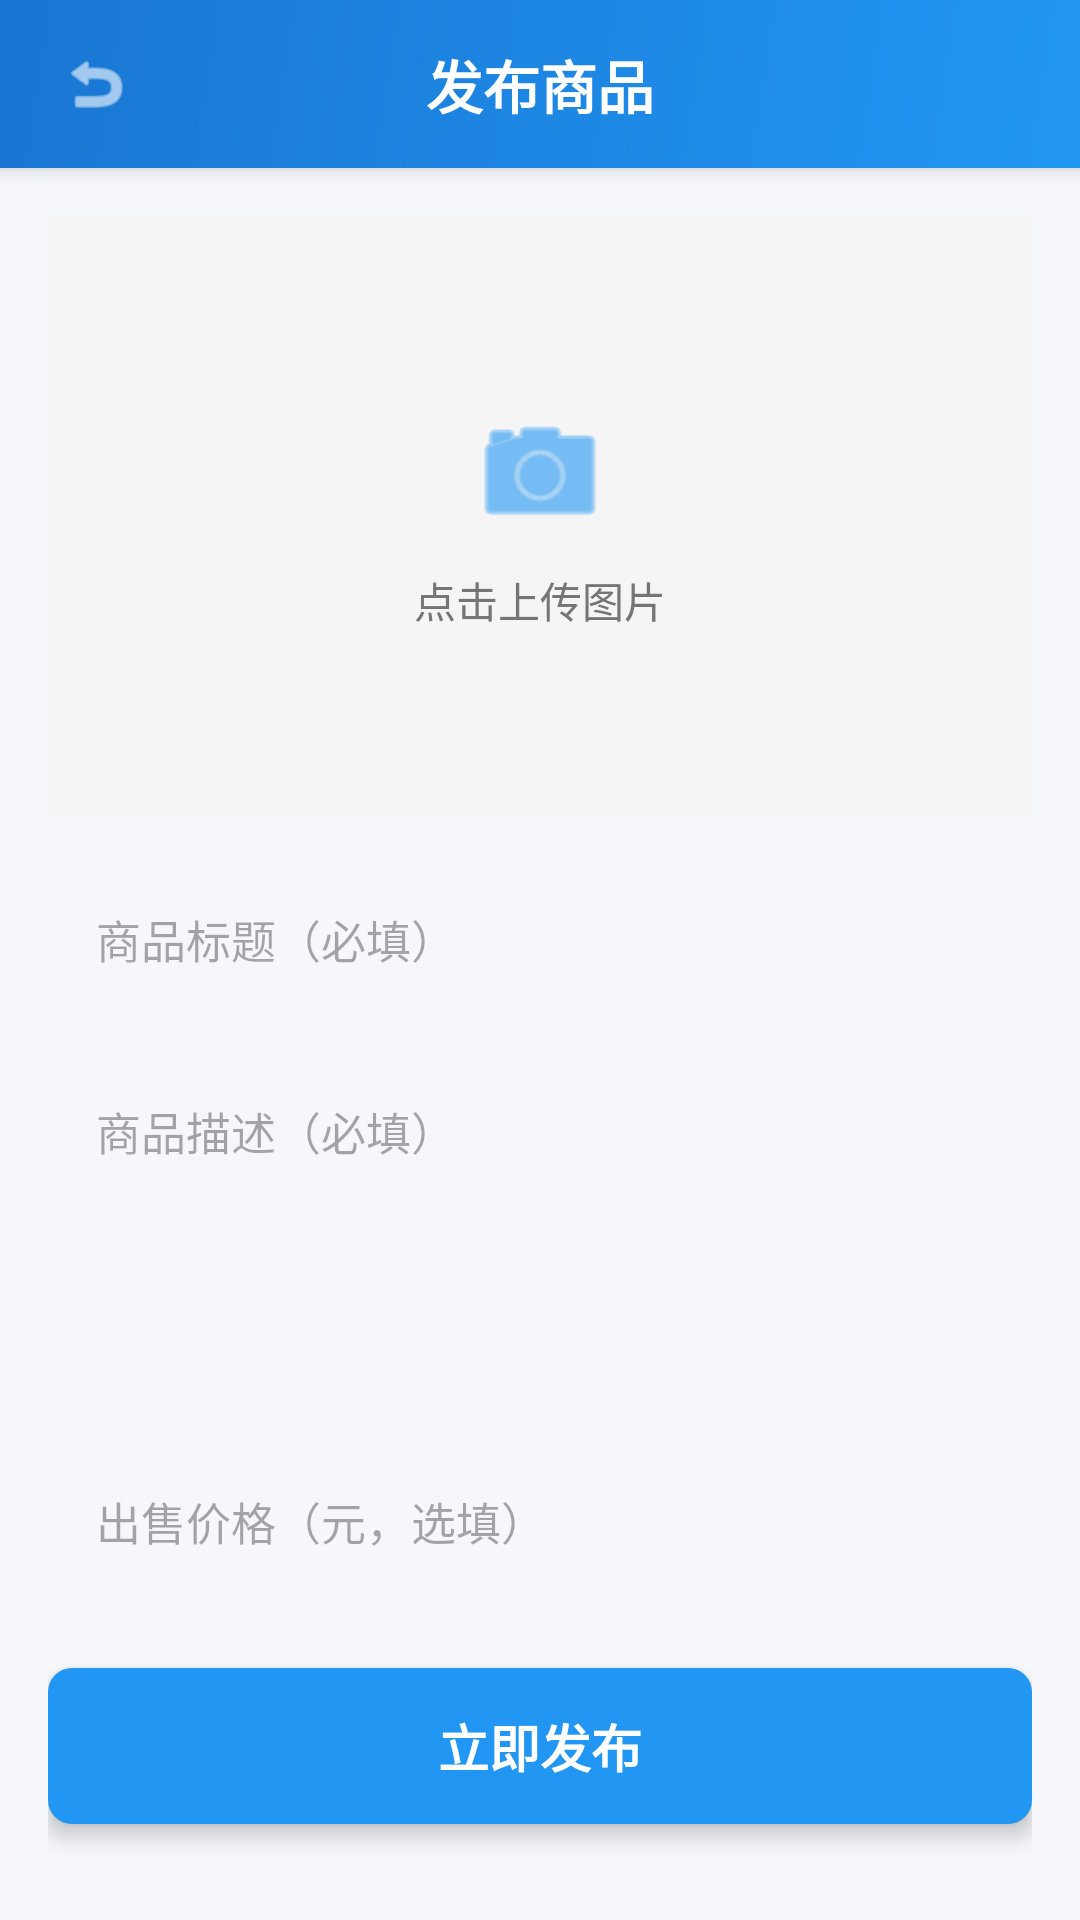

Where to tap for icons on this 1080 × 1920 app screen, as [x,y]:
camera: [540,470]
revert: [97,84]
